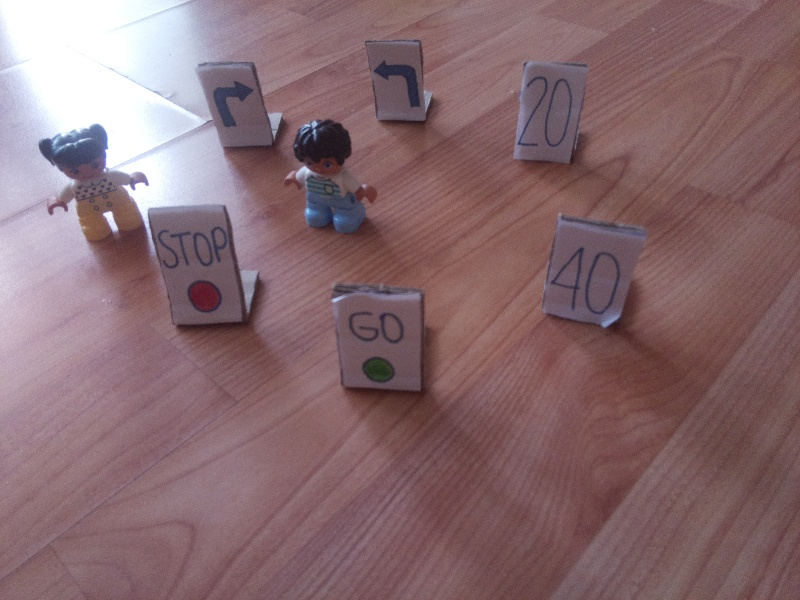20: (522, 72, 573, 157)
40: (552, 237, 624, 324)
go: (343, 303, 411, 382)
person: (33, 111, 145, 248), (283, 119, 377, 234)
stop: (155, 217, 235, 316)
turn left: (374, 58, 428, 116)
turn right: (214, 79, 255, 138)
